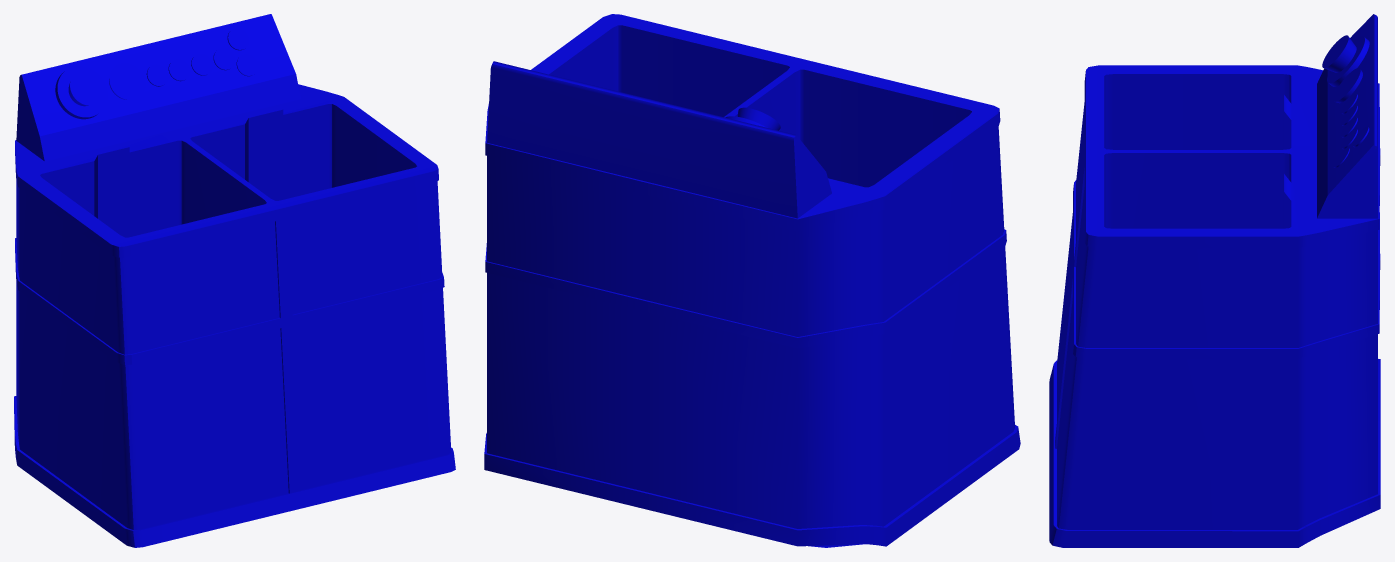
Rendered from ZG_Proxy_Fryer.fbx.
The picture shows the model from 3 angles, left to right: view 1: azimuth 30°, elevation 25°; view 2: azimuth 150°, elevation 25°; view 3: azimuth 270°, elevation 25°; orthographic projection. The views are drawn at different scales.
Parts seen in each view (by area): view 1: Fryer; view 2: Fryer; view 3: Fryer.
Part boxes in pixels (x1,y1,x2,y2): Fryer: [14, 14, 455, 547]; Fryer: [484, 14, 1020, 547]; Fryer: [1049, 14, 1380, 547].
Bounding box in the file's own units: 2871 × 2986 × 2333.
